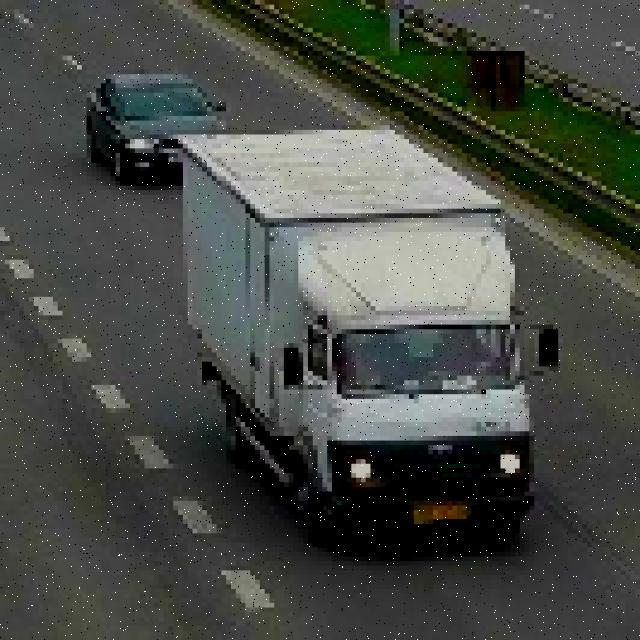truck: (178, 125, 558, 552)
